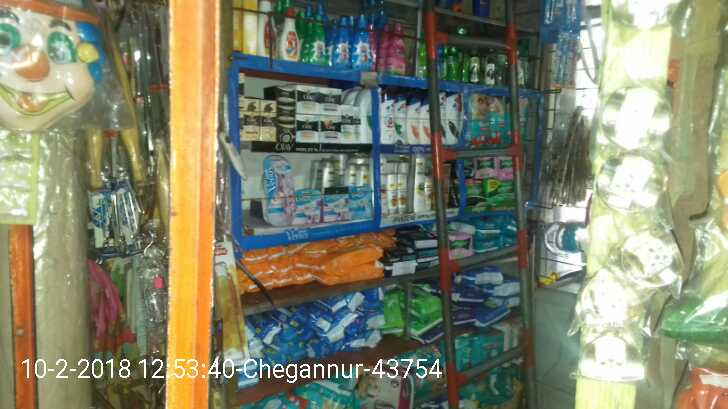venus: (264, 157, 297, 224), (297, 189, 324, 224), (350, 186, 374, 219), (324, 189, 350, 219)
